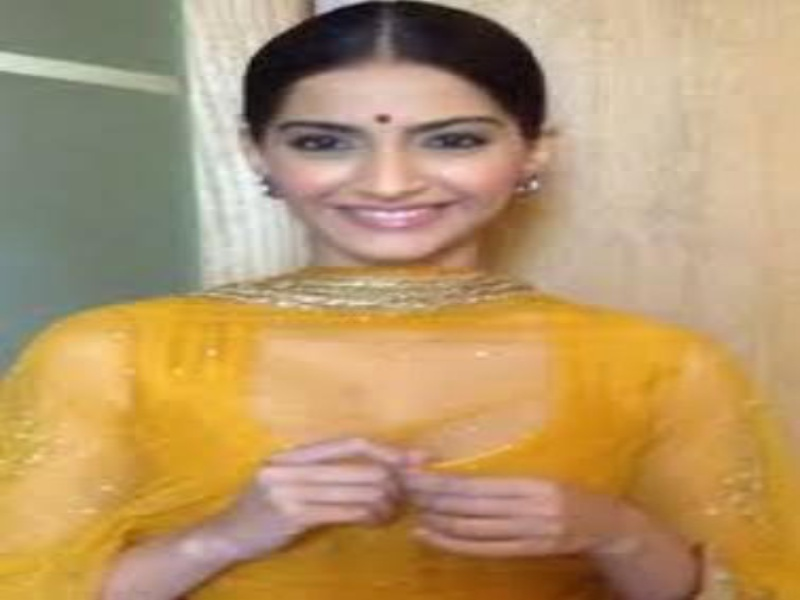TsisyArotava: (230, 4, 560, 275)
